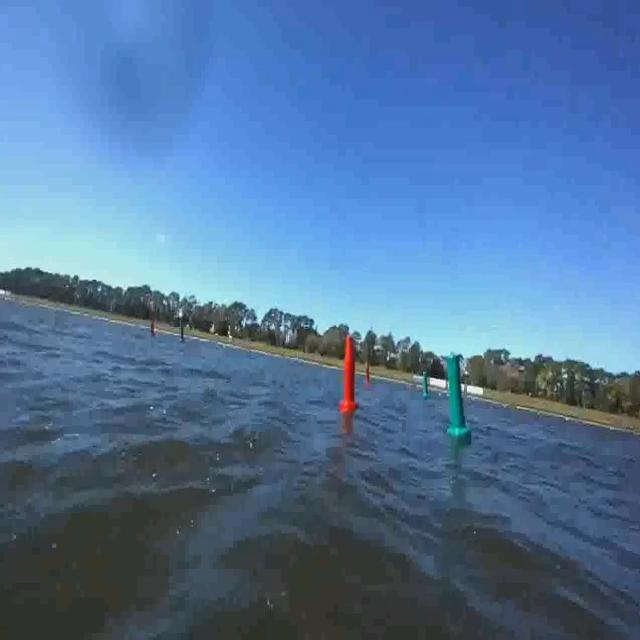green-column-buoy: (447, 352, 472, 442), (422, 370, 432, 398), (181, 322, 188, 346)
red-column-buoy: (340, 335, 359, 413), (363, 360, 372, 388), (150, 315, 156, 339)
